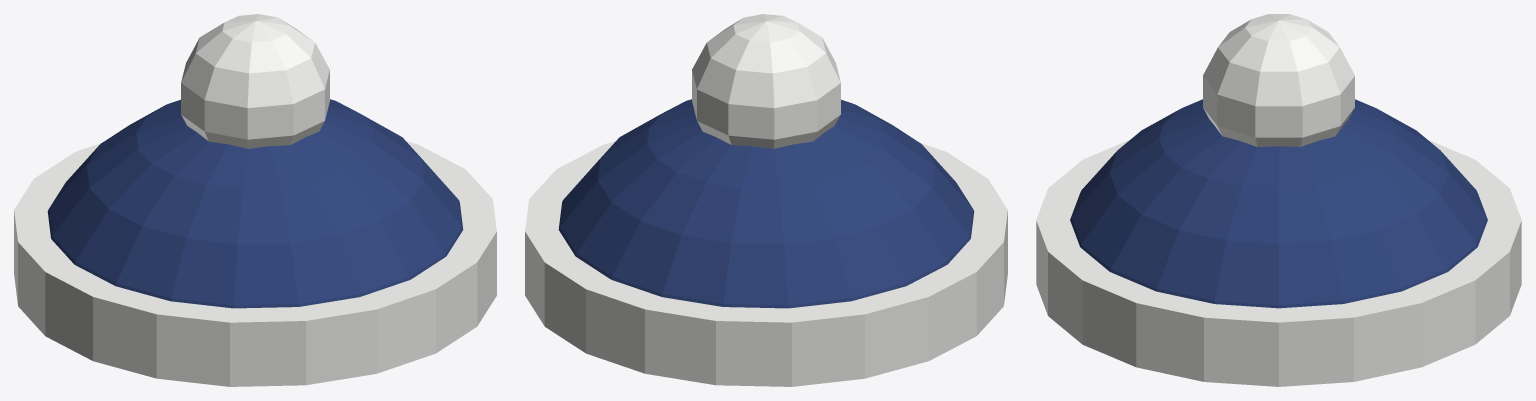
The model's file is hat_pompom.glb.
3 views of the same model, side by side, from view 1: azimuth 30°, elevation 25°; view 2: azimuth 150°, elevation 25°; view 3: azimuth 270°, elevation 25° (orthographic).
Parts seen in each view (by area): view 1: Head; view 2: Head; view 3: Head.
Boxes of the visible parts, x1,y1,x2,y2 form: Head: (14, 14, 496, 386); Head: (525, 14, 1007, 386); Head: (1036, 14, 1521, 386).
Size of the model in its own units: 0.684 by 0.41 by 0.684.
